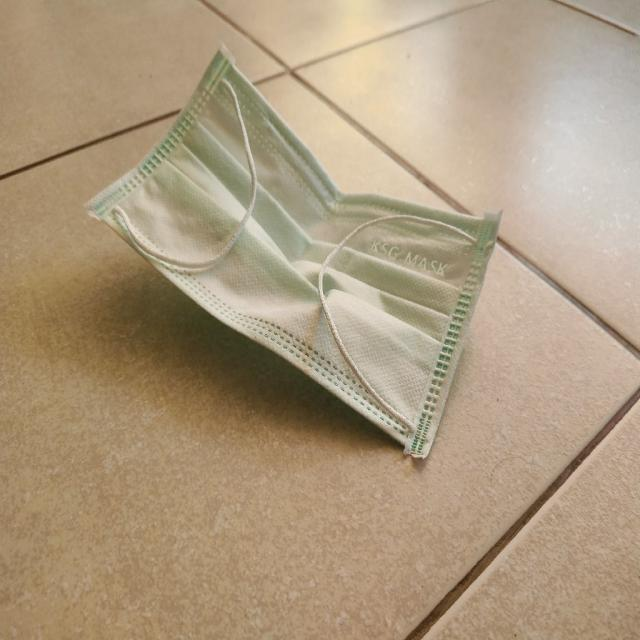face mask: (90, 46, 502, 451)
